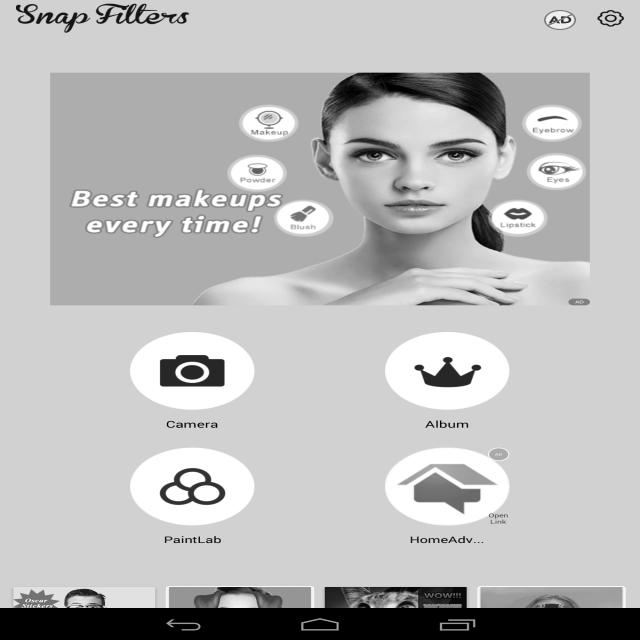ImageView: (50, 73, 590, 305), (16, 3, 399, 33), (385, 448, 509, 525), (476, 585, 626, 640), (165, 585, 314, 640), (539, 7, 581, 33), (592, 7, 629, 30), (568, 299, 590, 305)
TextView: (130, 412, 255, 439), (385, 412, 509, 439), (130, 528, 255, 554), (385, 528, 509, 554), (487, 512, 509, 525), (488, 448, 509, 461)
